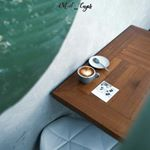cups: (75, 64, 101, 85)
